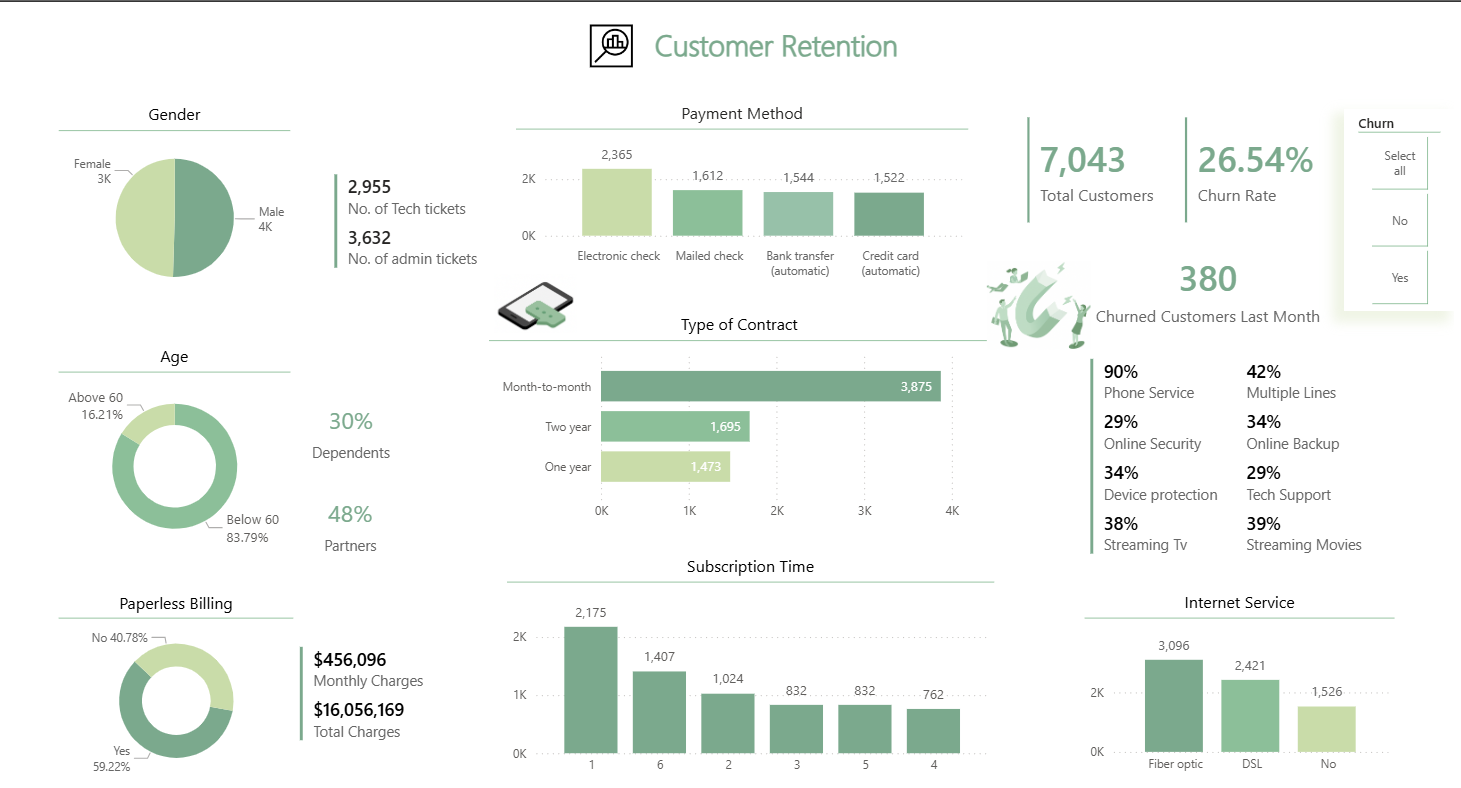

Layout of this report page (visuals, bound fields, positions):
{"tool":"powerbi","page":{"name":"Customer Retention","canvas":[1280,720],"ordinal":0},"visuals":[{"type":"donutChart","title":"Paperless Billing","fields":{"Category":["01 Churn-Dataset.PaperlessBilling"],"Y":["Measure Table.Total Customers"]},"box":[4.4,538.9,214.7,175.3],"z":0},{"type":"multiRowCard","fields":{"Values":["Measure Table.Monthly Revenue","Measure Table.Total Revenue"]},"box":[219.1,584.2,143.1,118.3],"z":1000},{"type":"clusteredColumnChart","title":"Payment Method","fields":{"Category":["01 Churn-Dataset.PaymentMethod"],"Y":["Measure Table.Total Customers"]},"box":[422.3,90.7,413.3,169.4],"z":2000},{"type":"pieChart","title":"Gender","fields":{"Category":["01 Churn-Dataset.gender"],"Y":["Measure Table.Total Customers"]},"box":[4.4,92,211.8,185.5],"z":3000},{"type":"donutChart","title":"Age","fields":{"Category":["01 Churn-Dataset.Age"],"Y":["Measure Table.Total Customers"]},"box":[4.4,312.5,211.8,197.2],"z":4000},{"type":"multiRowCard","fields":{"Values":["Measure Table.Phone Service","Measure Table.Multiple Lines","Measure Table.Online Security","Measure Table.Online Backup","Measure Table.Device protection","Measure Table.Tech Support","Measure Table.Streaming Tv","Measure Table.Streaming Movies"]},"box":[942,321.3,283.3,194.2],"z":5000},{"type":"cardVisual","fields":{"Data":["Measure Table.Total Customers","Measure Table.Churn Rate"]},"box":[883.6,99.8,290.6,106.6],"z":6000},{"type":"multiRowCard","fields":{"Values":["Measure Table.No. of Tech tickets","Measure Table.No. of admin tickets"]},"box":[250.4,152.8,141.8,102.4],"z":7000},{"type":"card","fields":{"Values":["Measure Table.Dependents"]},"box":[220.6,355.3,100.8,74.4],"z":8000},{"type":"card","fields":{"Values":["Measure Table.Partners"]},"box":[219,440.6,102.4,74.4],"z":9000},{"type":"barChart","title":"Type of Contract","fields":{"Category":["01 Churn-Dataset.Contract"],"Y":["Measure Table.Total Customers"]},"box":[397.8,283.7,457.4,197.3],"z":10000},{"type":"slicer","fields":{"Values":["01 Churn-Dataset.Churn"]},"box":[1179.2,97.9,100.8,185.6],"z":11000},{"type":"clusteredColumnChart","title":"Internet Service","fields":{"Y":["Measure Table.Total Customers"],"Category":["01 Churn-Dataset.InternetService"]},"box":[942,537.4,283.3,175.3],"z":12000},{"type":"columnChart","title":"Subscription Time","fields":{"Category":["01 Churn-Dataset.Tenure in Years"],"Y":["Measure Table.Total Customers"]},"box":[414.6,504.2,445.1,209.4],"z":13000},{"type":"card","fields":{"Values":["Measure Table.Churned Customers Last Month"]},"box":[941.4,207.8,224.9,107],"z":14000},{"type":"textbox","box":[464.7,14.6,350.8,49.7],"z":15000},{"type":"image","box":[475,14.6,67.2,49.7],"z":16000},{"type":"image","box":[393.5,242.9,93.9,64.8],"z":17000},{"type":"image","box":[846.9,217,105.2,121.4],"z":18000}]}

Visuals, with their boxes on the page's 1280x720 design canvas (x1, y1, x2, y2). These are canvas units, not pixel positions in the 1461x788 screenshot, which may show the page scaled, cropped or inside an application window:
"Paperless Billing" donutChart: rect(4, 539, 219, 714)
multiRowCard - Measure Table.Monthly Revenue x Measure Table.Total Revenue: rect(219, 584, 362, 702)
"Payment Method" clusteredColumnChart: rect(422, 91, 836, 260)
"Gender" pieChart: rect(4, 92, 216, 278)
"Age" donutChart: rect(4, 312, 216, 510)
multiRowCard - Measure Table.Phone Service x Measure Table.Multiple Lines: rect(942, 321, 1225, 516)
cardVisual - Measure Table.Total Customers x Measure Table.Churn Rate: rect(884, 100, 1174, 206)
multiRowCard - Measure Table.No. of Tech tickets x Measure Table.No. of admin tickets: rect(250, 153, 392, 255)
card - Measure Table.Dependents: rect(221, 355, 321, 430)
card - Measure Table.Partners: rect(219, 441, 321, 515)
"Type of Contract" barChart: rect(398, 284, 855, 481)
slicer - 01 Churn-Dataset.Churn: rect(1179, 98, 1280, 284)
"Internet Service" clusteredColumnChart: rect(942, 537, 1225, 713)
"Subscription Time" columnChart: rect(415, 504, 860, 714)
card - Measure Table.Churned Customers Last Month: rect(941, 208, 1166, 315)
textbox: rect(465, 15, 816, 64)
image: rect(475, 15, 542, 64)
image: rect(394, 243, 487, 308)
image: rect(847, 217, 952, 338)
